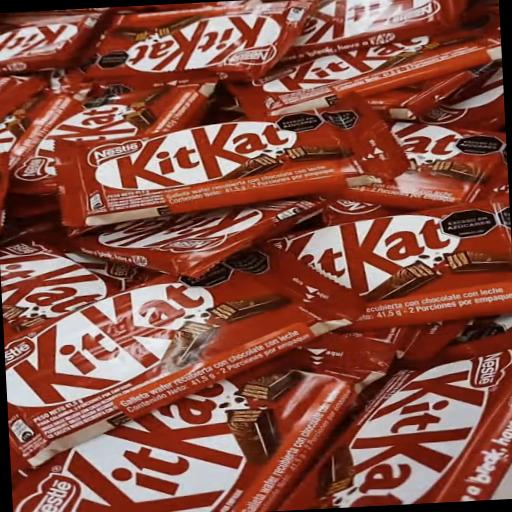kitkat: (68, 90, 436, 238), (305, 337, 512, 509)
